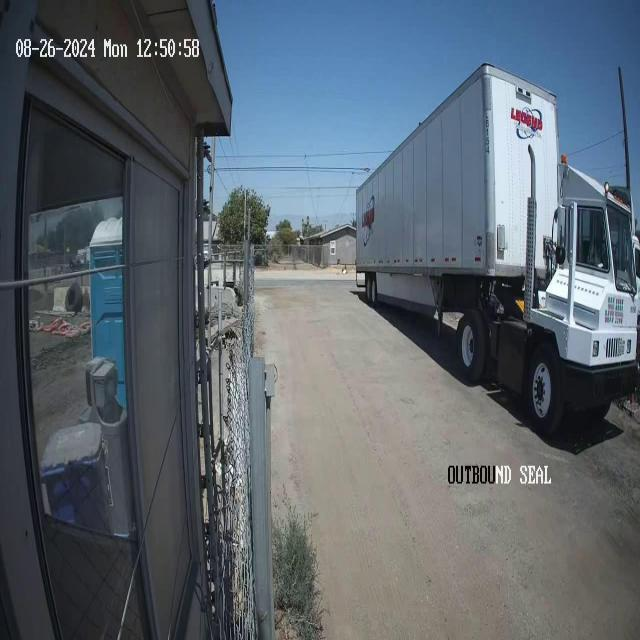TRUCK_IN: (355, 61, 639, 436)
